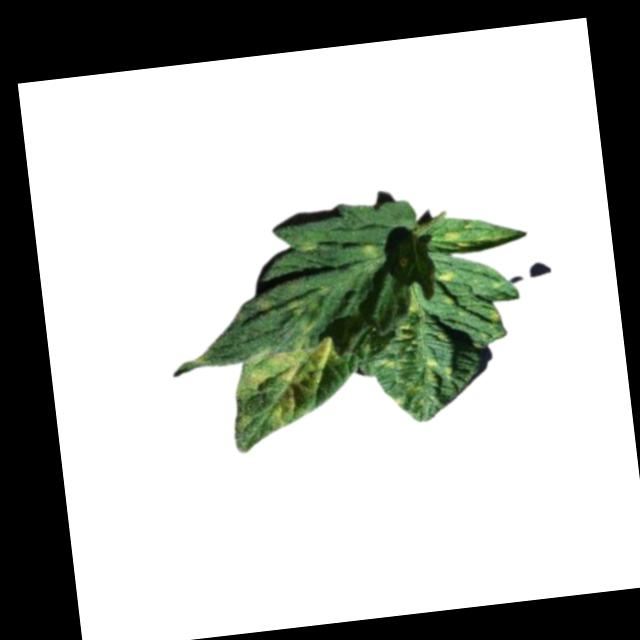Leaf_Mold: (230, 334, 345, 434), (373, 295, 462, 412), (253, 286, 337, 341), (442, 223, 474, 253), (362, 241, 376, 266), (439, 269, 459, 284)
